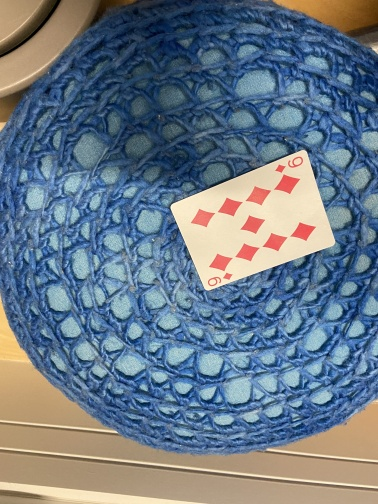nine: (169, 148, 336, 293)
